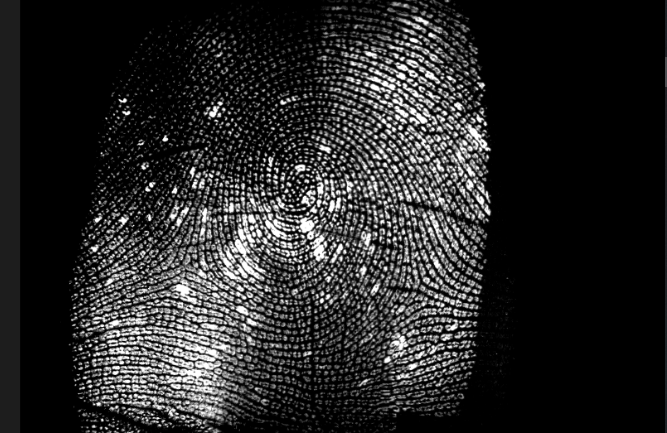nucelo: (282, 157, 312, 211)
verticilo: (166, 249, 203, 279), (404, 267, 435, 295)
